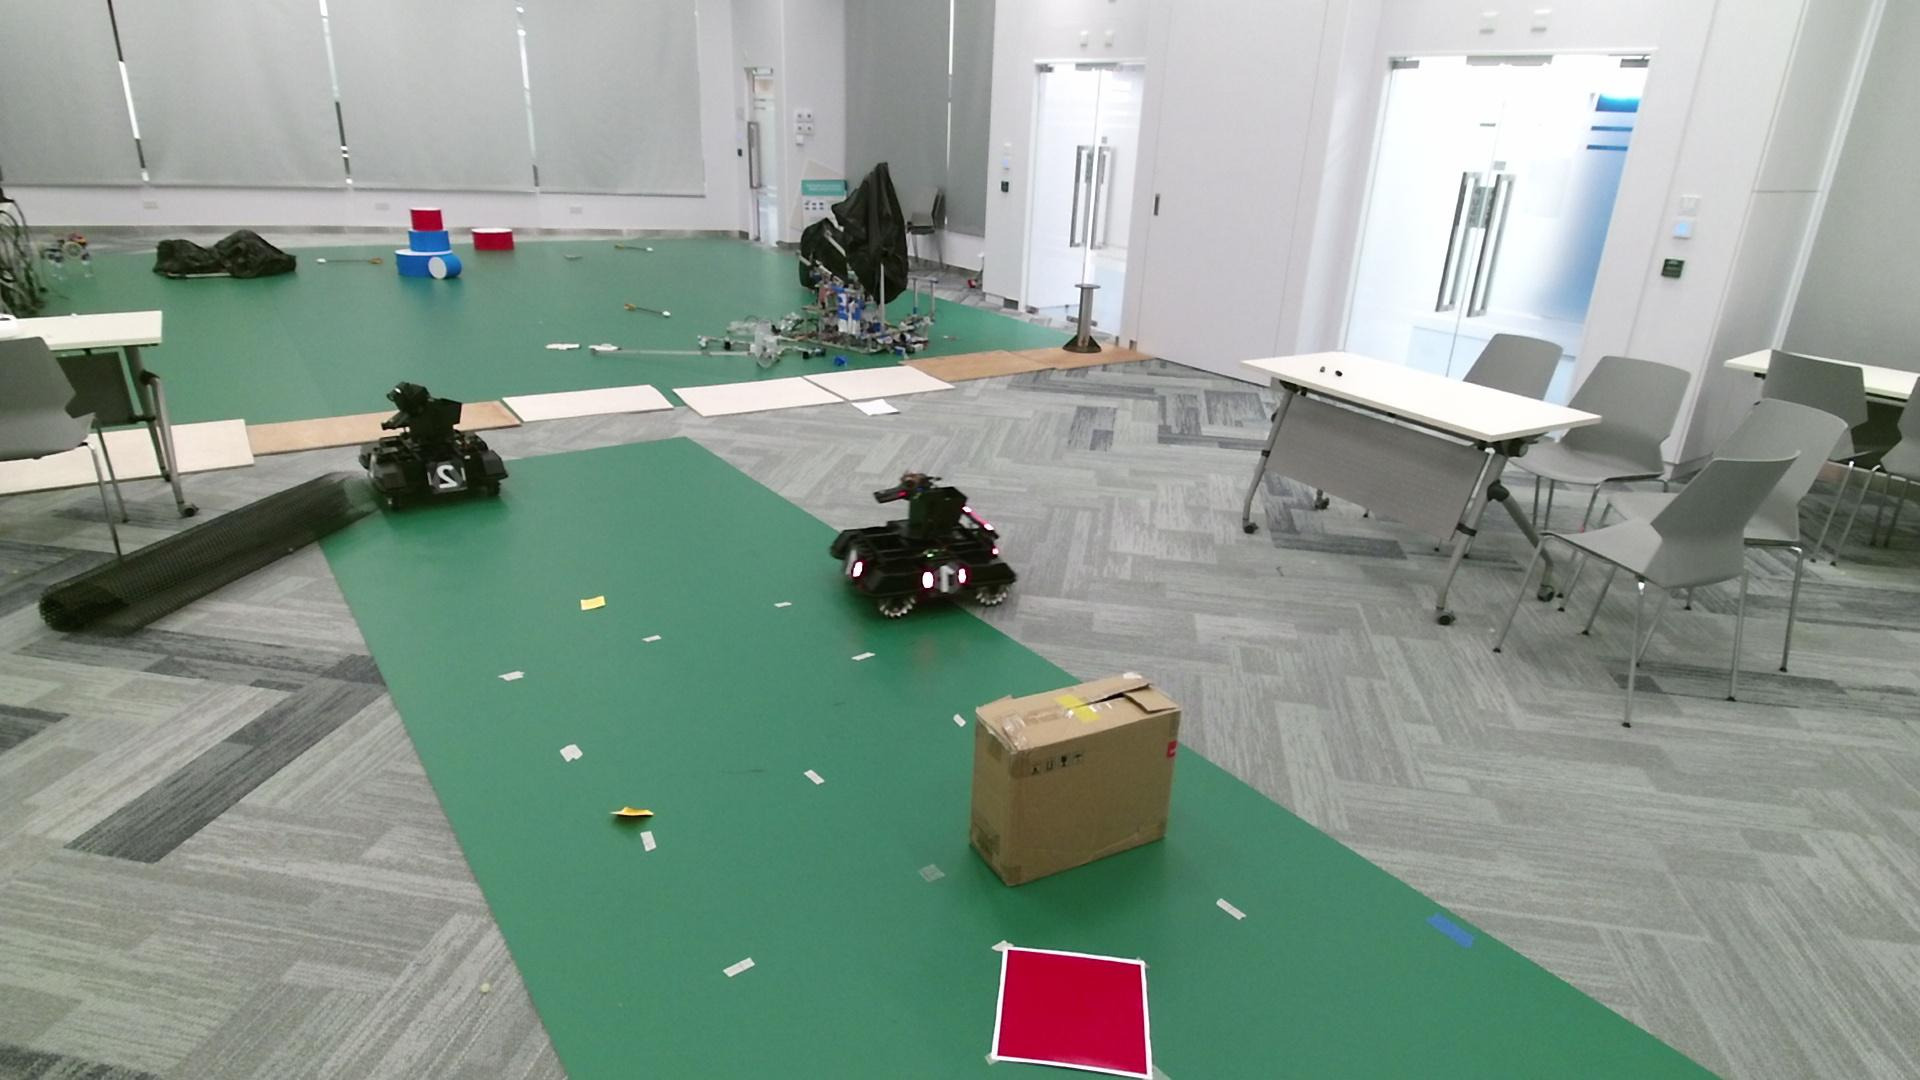robot: (829, 469, 1017, 618), (357, 380, 510, 512)
